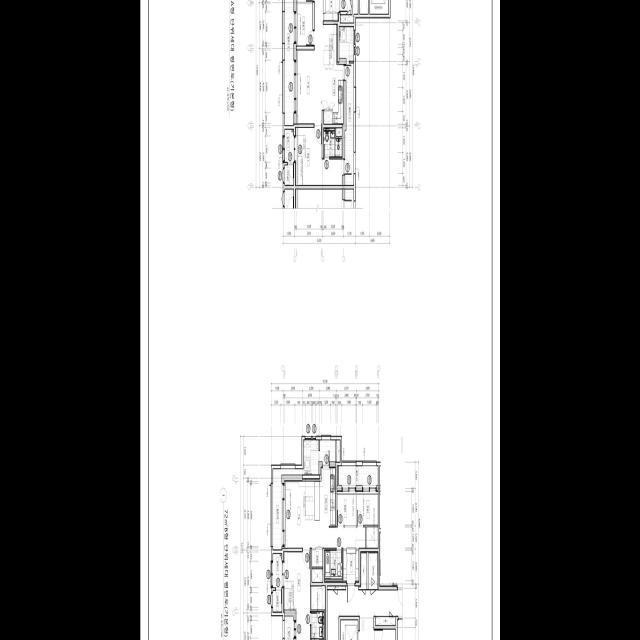background: (140, 0, 500, 640)
space_balconi: (273, 440, 335, 550), (339, 27, 353, 185), (284, 0, 293, 125), (339, 466, 378, 486), (272, 554, 282, 612), (284, 130, 293, 162), (284, 616, 293, 640)
space_bedroom: (295, 128, 342, 185), (283, 552, 310, 640), (356, 492, 378, 525), (296, 4, 312, 46), (337, 492, 356, 525)
space_elevator: (340, 620, 358, 640), (370, 0, 388, 14)
space_elevator_hall: (327, 590, 402, 640)
space_front: (343, 548, 358, 583), (323, 0, 338, 21)
space_kitchen: (323, 25, 343, 124), (302, 468, 335, 526)
space_living_room: (284, 482, 365, 548), (296, 0, 323, 124)
space_other: (340, 0, 358, 23), (368, 552, 378, 589), (311, 586, 325, 610), (358, 552, 366, 589), (366, 527, 378, 548), (312, 549, 322, 567), (284, 166, 293, 185), (375, 617, 395, 625), (312, 569, 322, 582), (359, 0, 368, 14), (336, 440, 340, 462), (327, 586, 345, 589), (336, 128, 342, 136)
space_toilet: (323, 128, 342, 156), (324, 551, 342, 579), (311, 612, 324, 640)
